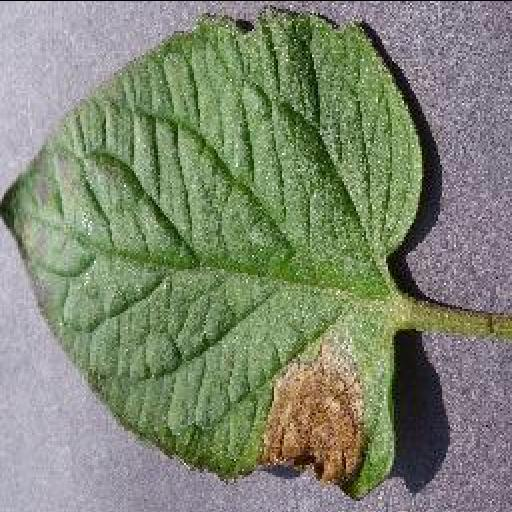disease_tomato: (0, 0, 422, 502)
